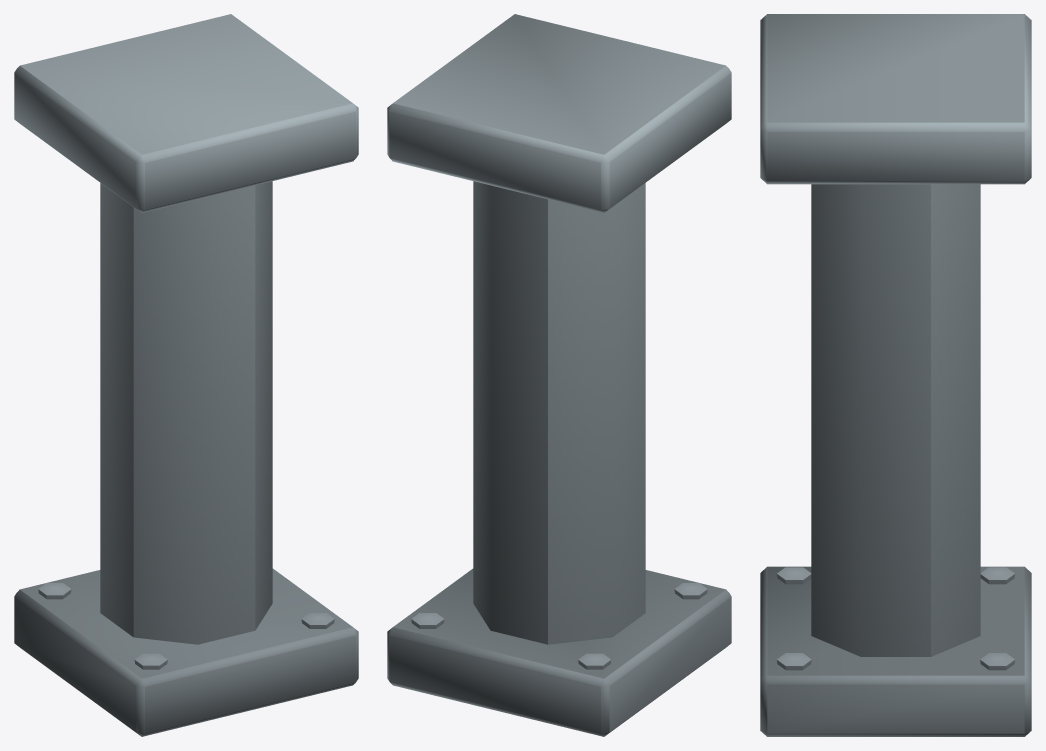
File: pillar_1x1x2.glb
The picture shows the model from 3 angles, left to right: view 1: azimuth 30°, elevation 25°; view 2: azimuth 150°, elevation 25°; view 3: azimuth 270°, elevation 25°; orthographic projection. The views are drawn at different scales.
Parts seen in each view (by area): view 1: pillar_1x1x2; view 2: pillar_1x1x2; view 3: pillar_1x1x2.
Boxes of the visible parts, bbox=[...] form: pillar_1x1x2: bbox=[14, 14, 358, 736]; pillar_1x1x2: bbox=[387, 14, 731, 736]; pillar_1x1x2: bbox=[760, 14, 1031, 736].
Bounding box in the file's own units: 0.8 × 2 × 0.8.
Materials: 1 (1 with a texture image).
